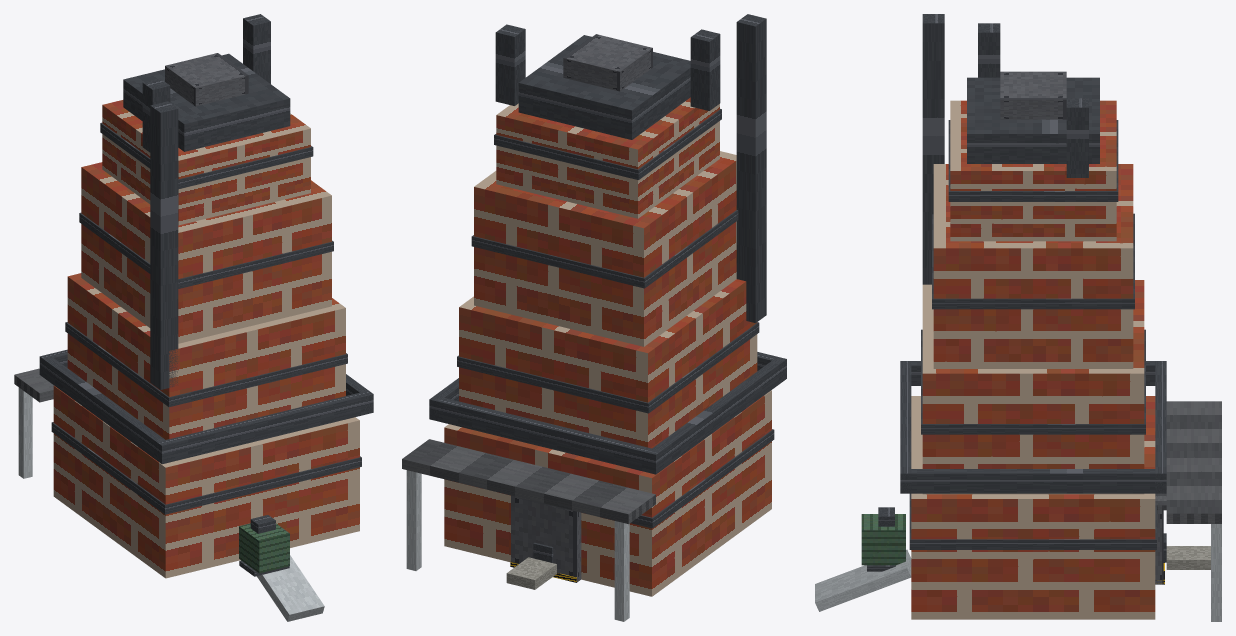
Rendered from blast_furnace.obj.
3 views of the same model, side by side, from view 1: azimuth 30°, elevation 25°; view 2: azimuth 150°, elevation 25°; view 3: azimuth 270°, elevation 25° (orthographic). The views are drawn at different scales.
Visible parts, largest first — view 1: hearth, stack, bosh, throat, downcomer, top_cone, bustle_b, band0, bustle_r, bell_top, band1, band2 (+7 smaller); view 2: stack, bosh, hearth, throat, top_cone, downcomer, cast_house_roof, bustle, cabinet, bustle_r, bell_top, band1 (+9 smaller); view 3: hearth, stack, bosh, throat, top_cone, cast_house_roof, bustle_l, downcomer, bell_top, band0, band1, band2 (+10 smaller).
Boxes of the visible parts, x1=… form: hearth: x1=53, y1=385, x2=359, y2=578; stack: x1=81, y1=162, x2=331, y2=343; bosh: x1=67, y1=273, x2=345, y2=439; throat: x1=102, y1=100, x2=310, y2=225; downcomer: x1=150, y1=101, x2=178, y2=389; top_cone: x1=123, y1=53, x2=290, y2=151; bustle_b: x1=157, y1=390, x2=373, y2=463; band0: x1=51, y1=422, x2=361, y2=514; bustle_r: x1=39, y1=356, x2=170, y2=463; bell_top: x1=165, y1=53, x2=248, y2=106; band1: x1=65, y1=322, x2=347, y2=406; band2: x1=79, y1=212, x2=333, y2=288; stack: x1=474, y1=151, x2=736, y2=346; bosh: x1=459, y1=279, x2=757, y2=448; hearth: x1=444, y1=390, x2=771, y2=596; throat: x1=496, y1=97, x2=719, y2=218; top_cone: x1=518, y1=35, x2=690, y2=139; downcomer: x1=736, y1=14, x2=766, y2=322; cast_house_roof: x1=402, y1=439, x2=655, y2=524; bustle: x1=429, y1=398, x2=660, y2=474; cabinet: x1=511, y1=495, x2=581, y2=582; bustle_r: x1=647, y1=357, x2=786, y2=474; bell_top: x1=563, y1=34, x2=652, y2=91; band1: x1=457, y1=322, x2=759, y2=413; hearth: x1=911, y1=396, x2=1155, y2=619; stack: x1=933, y1=164, x2=1133, y2=368; bosh: x1=922, y1=280, x2=1144, y2=494; throat: x1=950, y1=100, x2=1116, y2=241; top_cone: x1=967, y1=77, x2=1099, y2=163; cast_house_roof: x1=1166, y1=401, x2=1221, y2=523; bustle_l: x1=900, y1=469, x2=1166, y2=493; downcomer: x1=922, y1=14, x2=944, y2=284; bell_top: x1=1000, y1=71, x2=1066, y2=119; band0: x1=909, y1=493, x2=1156, y2=549; band1: x1=921, y1=329, x2=1145, y2=434; band2: x1=932, y1=213, x2=1134, y2=309.
Bounding box in the file's own units: 3 × 6.68 × 4.59.
